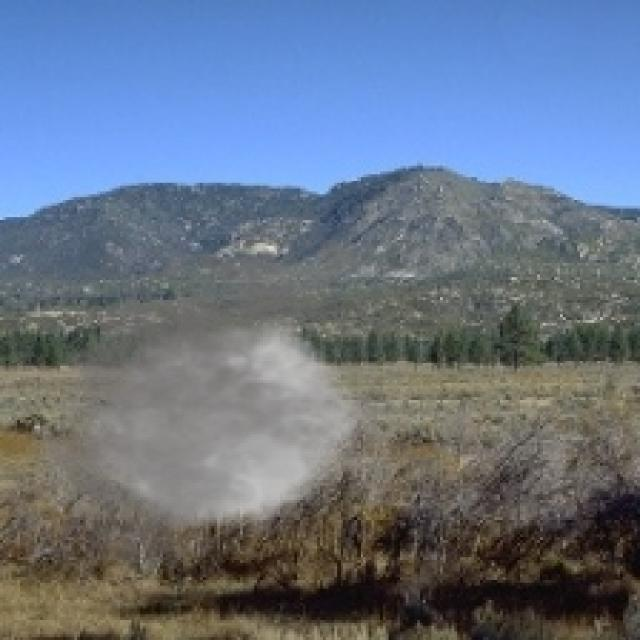Smoke: (12, 226, 434, 583)
